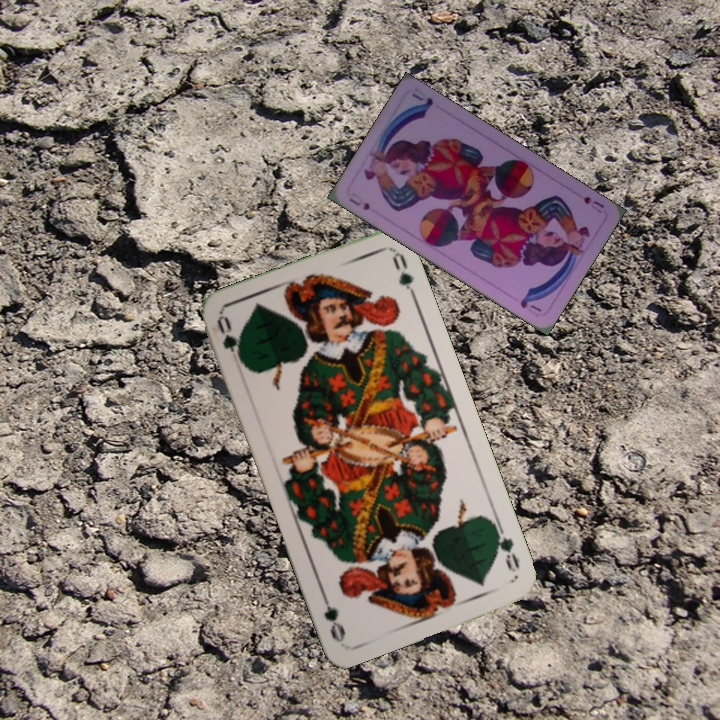GO: (213, 313, 248, 369), (491, 520, 522, 575)
SU: (579, 192, 607, 216), (345, 193, 373, 213)
